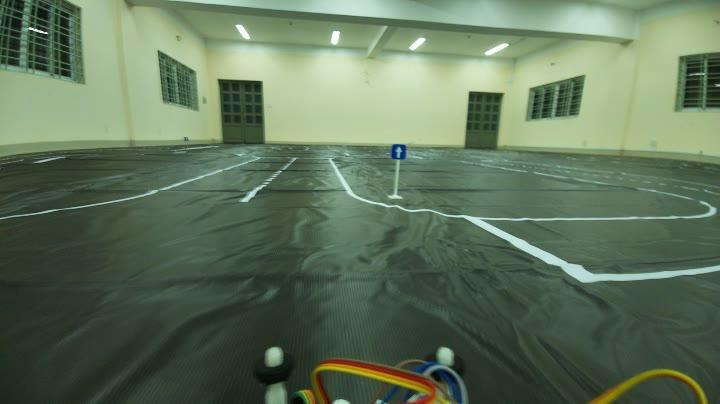onewayroad: (386, 140, 407, 162)
